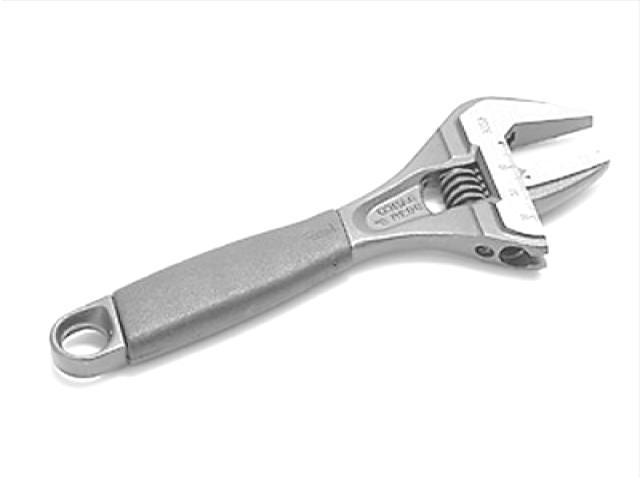Adjustable spanner: (51, 97, 609, 378)
